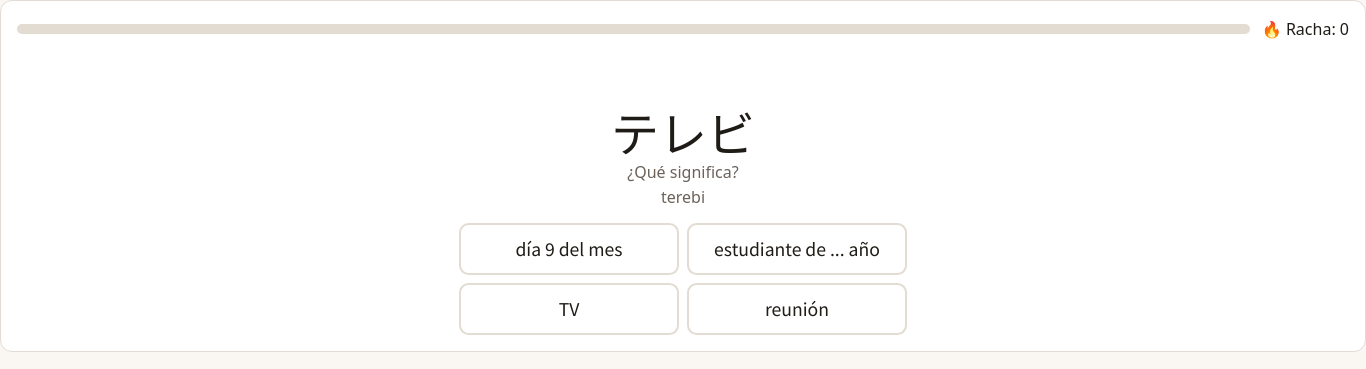
Scenario: read-words with loanwords › asks what it means and reveals the original word only after answering
Expected: the text "¿Qué significa?" is shown, [627,162,739,183]
Expected: the text "television" is not shown
Click the button "TV".
click(569, 309)  # box [459,283,679,335]
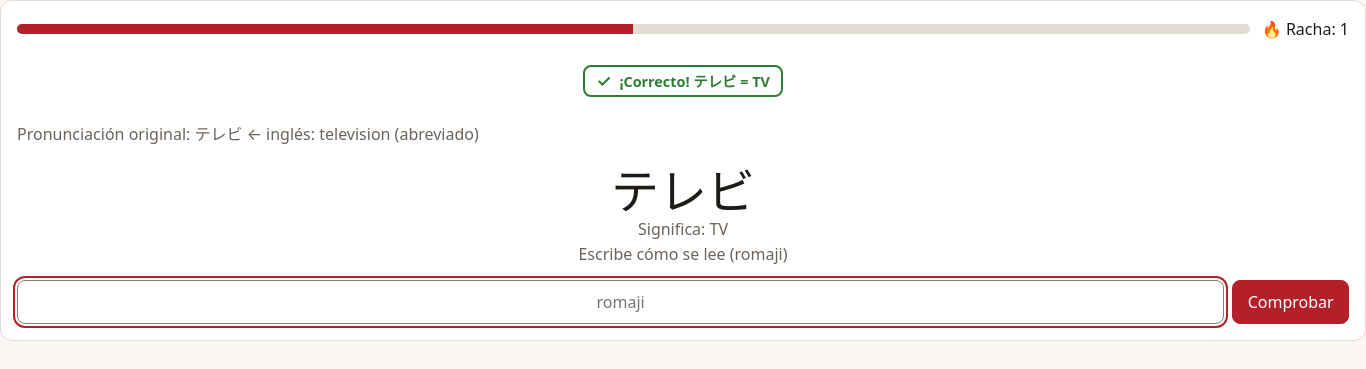
Now the element with test id "origin" shows "Pronunciación original", box [17,123,194,145]
Now the element with test id "origin" shows "inglés: television", box [266,123,479,145]
